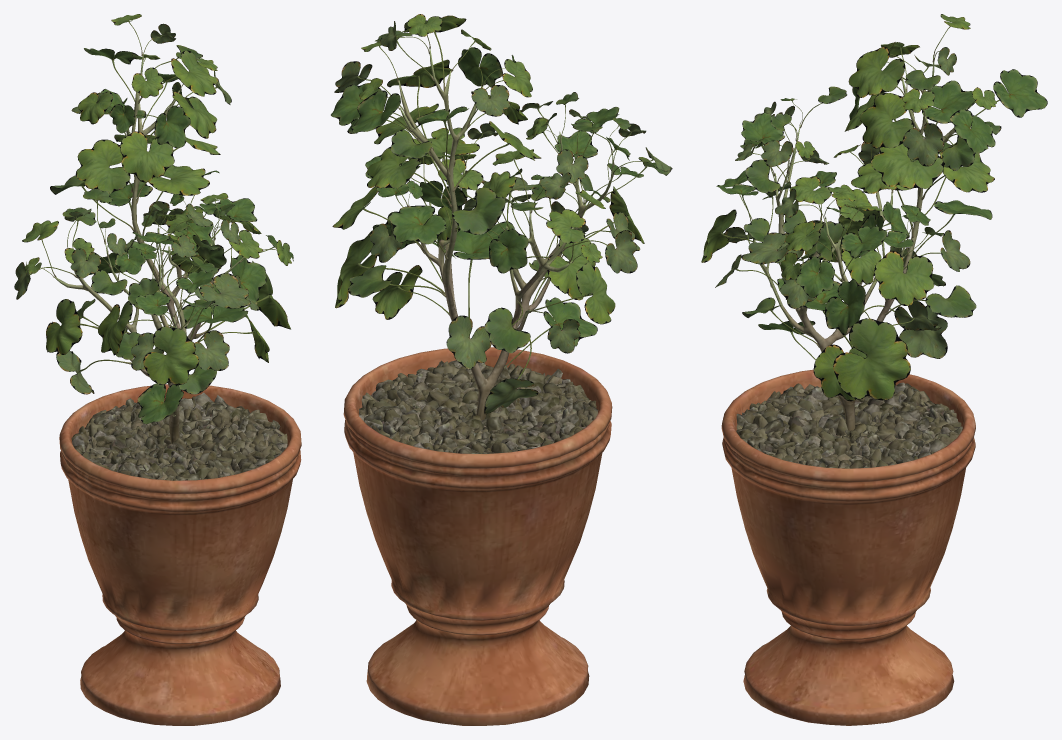
File: potted_plant_01.glb
3 renders of one model, left to right at view 1: azimuth 30°, elevation 25°; view 2: azimuth 150°, elevation 25°; view 3: azimuth 270°, elevation 25°, orthographic. The views are drawn at different scales.
Parts seen in each view (by area): view 1: potted_plant_01_stem, potted_plant_01_leaves; view 2: potted_plant_01_stem, potted_plant_01_leaves; view 3: potted_plant_01_stem, potted_plant_01_leaves.
Part boxes in pixels (bbox=[...]): potted_plant_01_stem: bbox=[54, 54, 301, 725]; potted_plant_01_leaves: bbox=[14, 14, 293, 424]; potted_plant_01_stem: bbox=[343, 48, 613, 725]; potted_plant_01_leaves: bbox=[331, 14, 672, 414]; potted_plant_01_stem: bbox=[721, 55, 975, 725]; potted_plant_01_leaves: bbox=[701, 14, 1047, 401].
Size of the model in its own units: 0.5874 by 1.34 by 0.6336.
2 materials, 2 textured.
